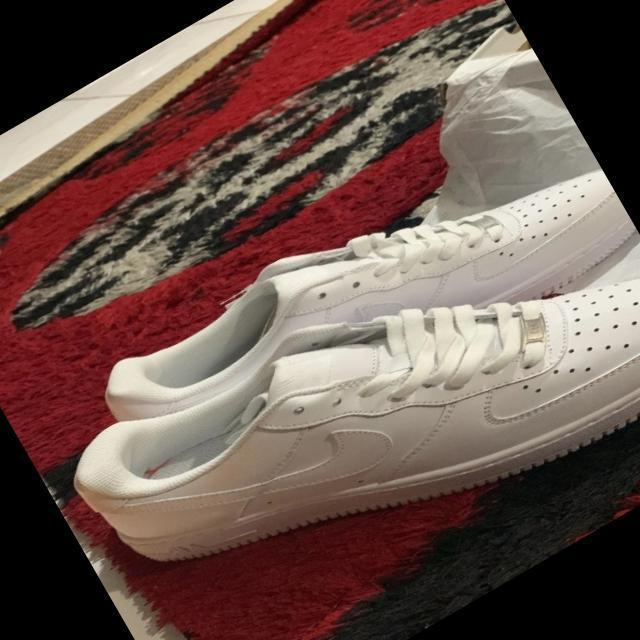nike original air force: (60, 149, 640, 640), (84, 94, 640, 516)
